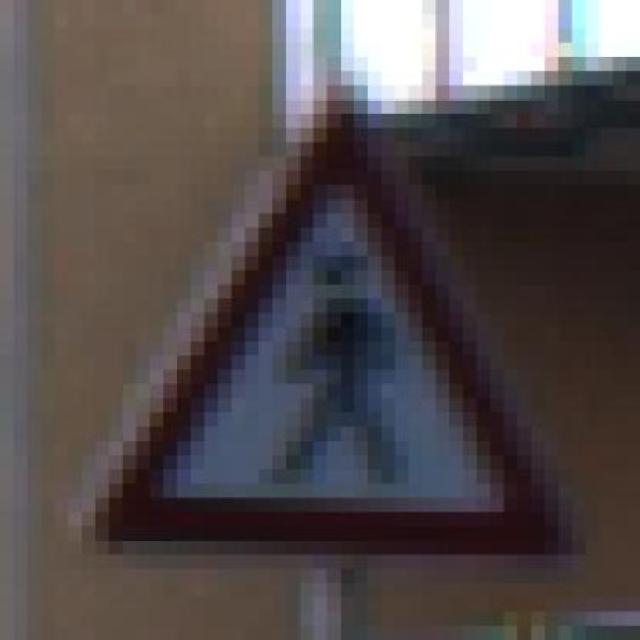Pedestrian Crossing: (71, 65, 575, 578)
